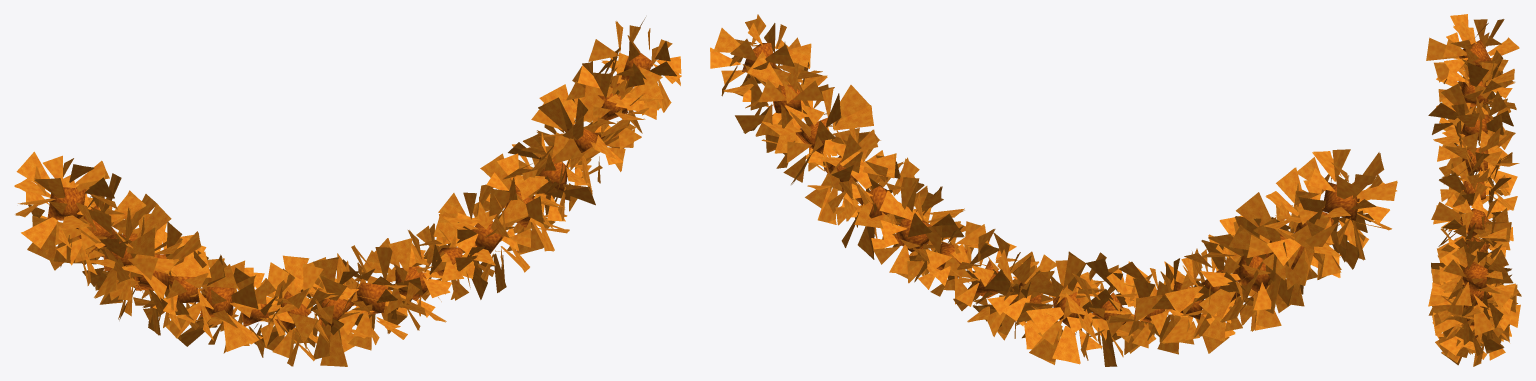
The model's file is guirnalda_baja.obj.
The picture shows the model from 3 angles, left to right: view 1: azimuth 30°, elevation 25°; view 2: azimuth 150°, elevation 25°; view 3: azimuth 270°, elevation 25°; orthographic projection. The views are drawn at different scales.
Visible parts, largest first — view 1: Cadena_Colgada_1; view 2: Cadena_Colgada_1; view 3: Cadena_Colgada_1.
Boxes of the visible parts, bbox=[...] form: Cadena_Colgada_1: bbox=[14, 17, 681, 366]; Cadena_Colgada_1: bbox=[710, 14, 1397, 366]; Cadena_Colgada_1: bbox=[1426, 14, 1521, 366].
Size of the model in its own units: 3.48 by 1.34 by 0.5525.
Materials: 2 (2 with a texture image).
